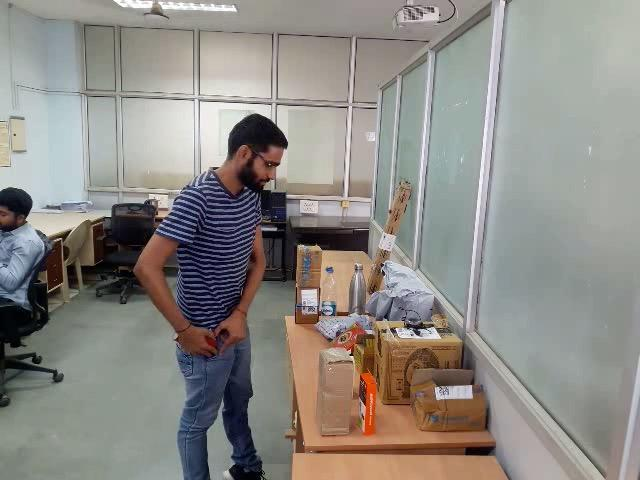shoplifting: (151, 300, 276, 396)
